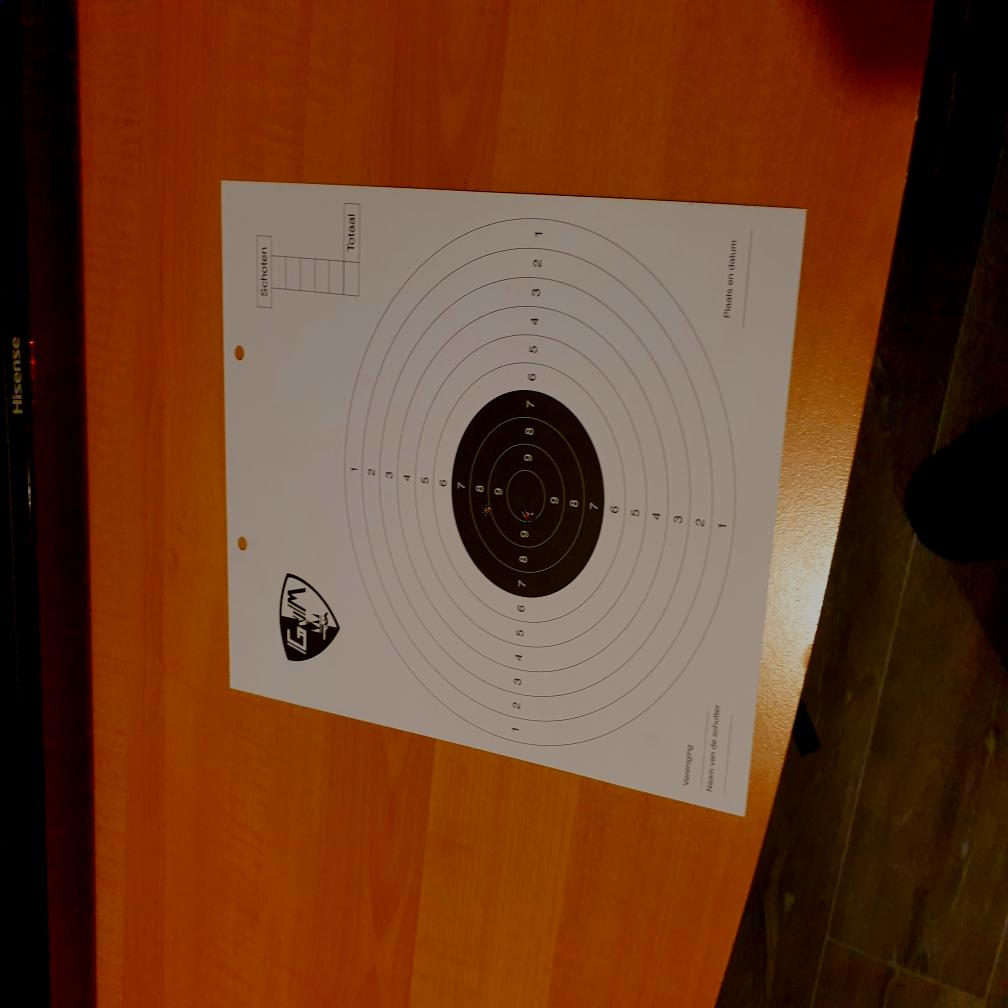10: (518, 505, 536, 525)
8: (481, 502, 492, 517)
Target: (343, 218, 737, 749)
black_contour: (451, 388, 605, 599)
